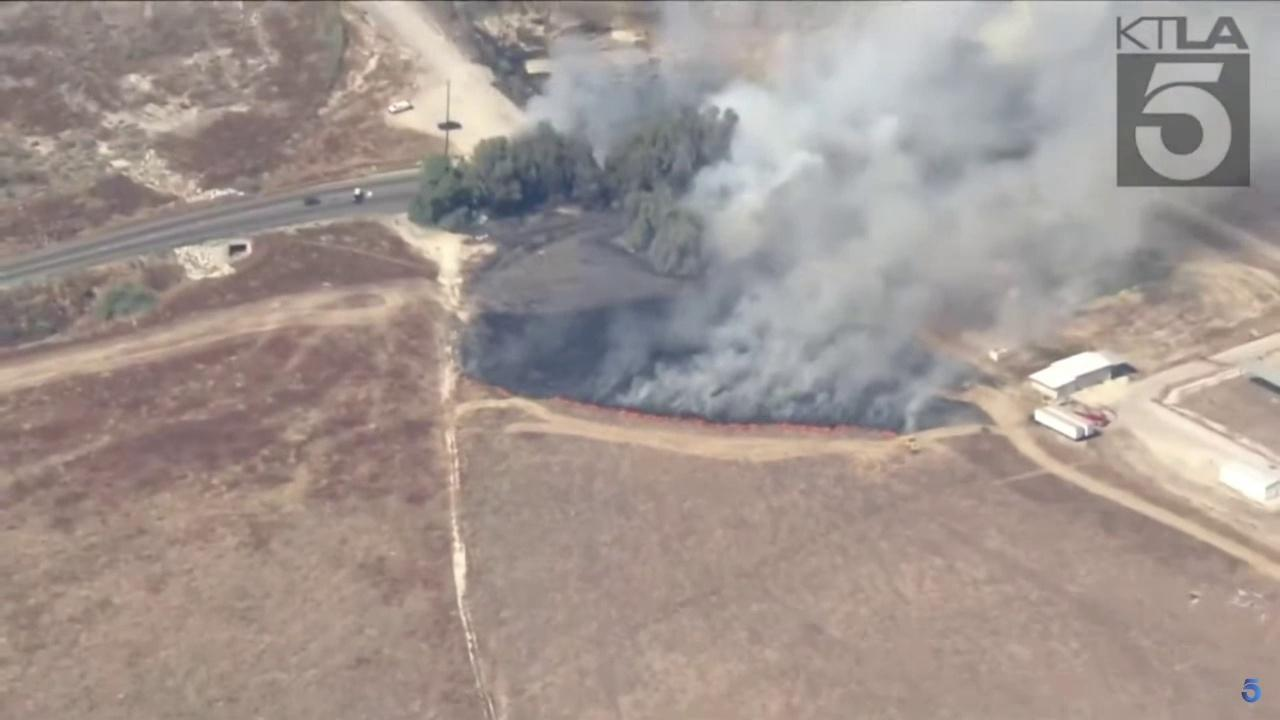fire: (553, 392, 899, 438)
smoke: (510, 0, 1280, 431)
